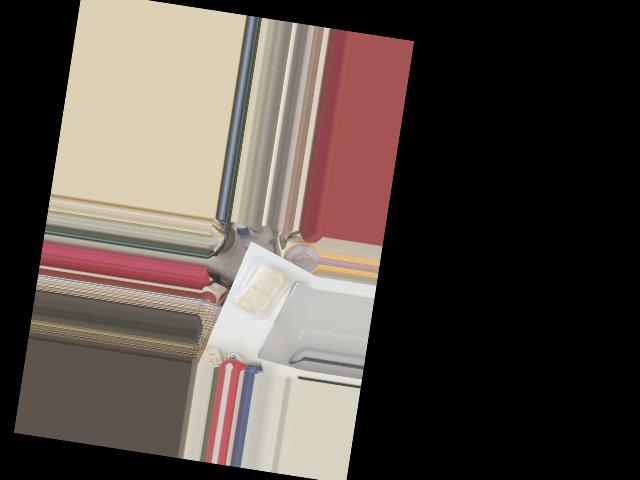cheese: (226, 247, 295, 326)
